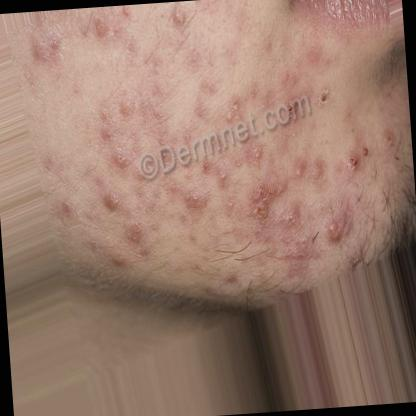Acne: (245, 176, 276, 222), (221, 84, 249, 124), (287, 153, 318, 186), (320, 209, 344, 248), (166, 0, 194, 32), (101, 178, 125, 215), (314, 80, 336, 118), (211, 160, 236, 192), (342, 149, 364, 179)
